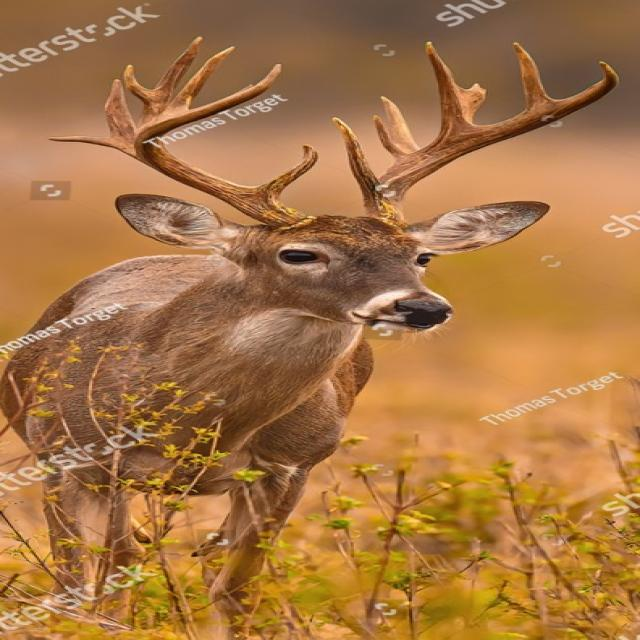L-F: (366, 59, 622, 231)
R-F: (132, 63, 309, 229)
